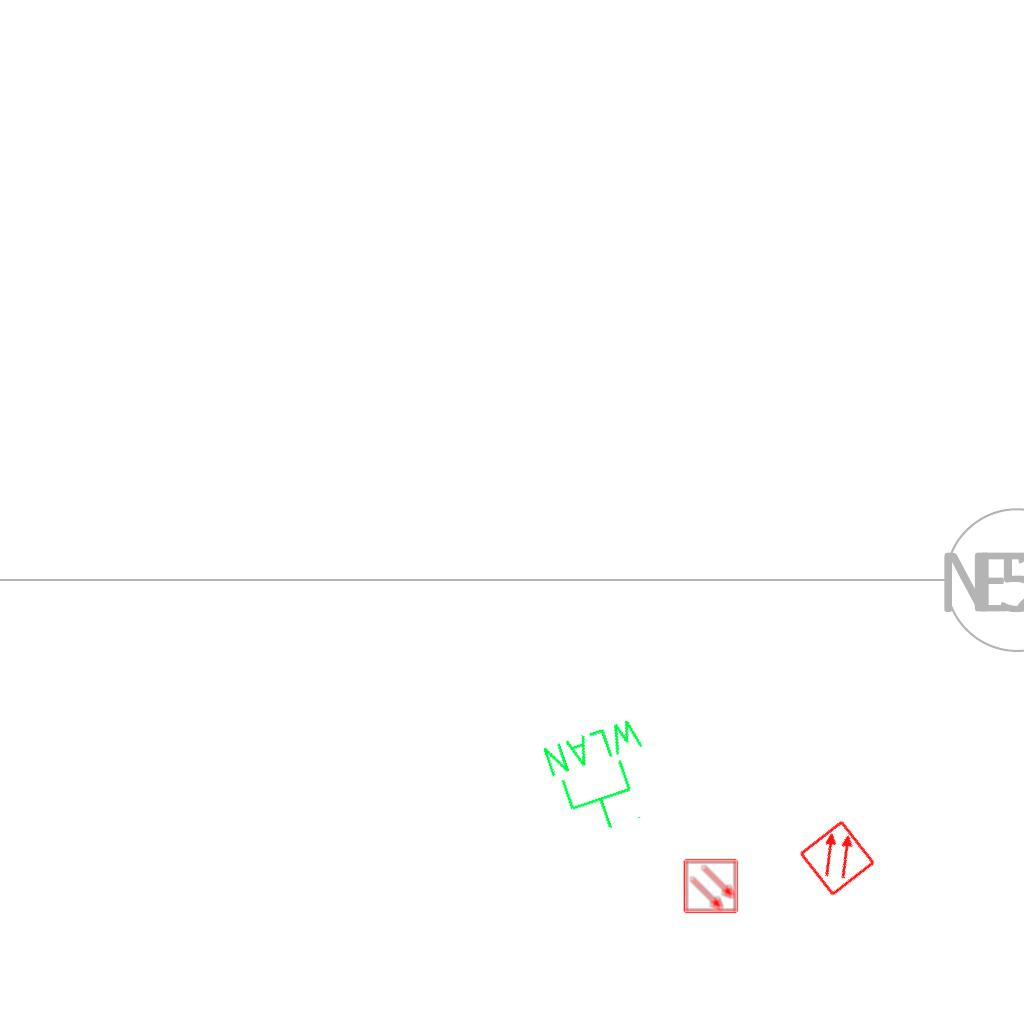RMO_Rauchmelder_optischer: (797, 818, 877, 898), (683, 858, 739, 914)
WLAN: (537, 712, 671, 845)
